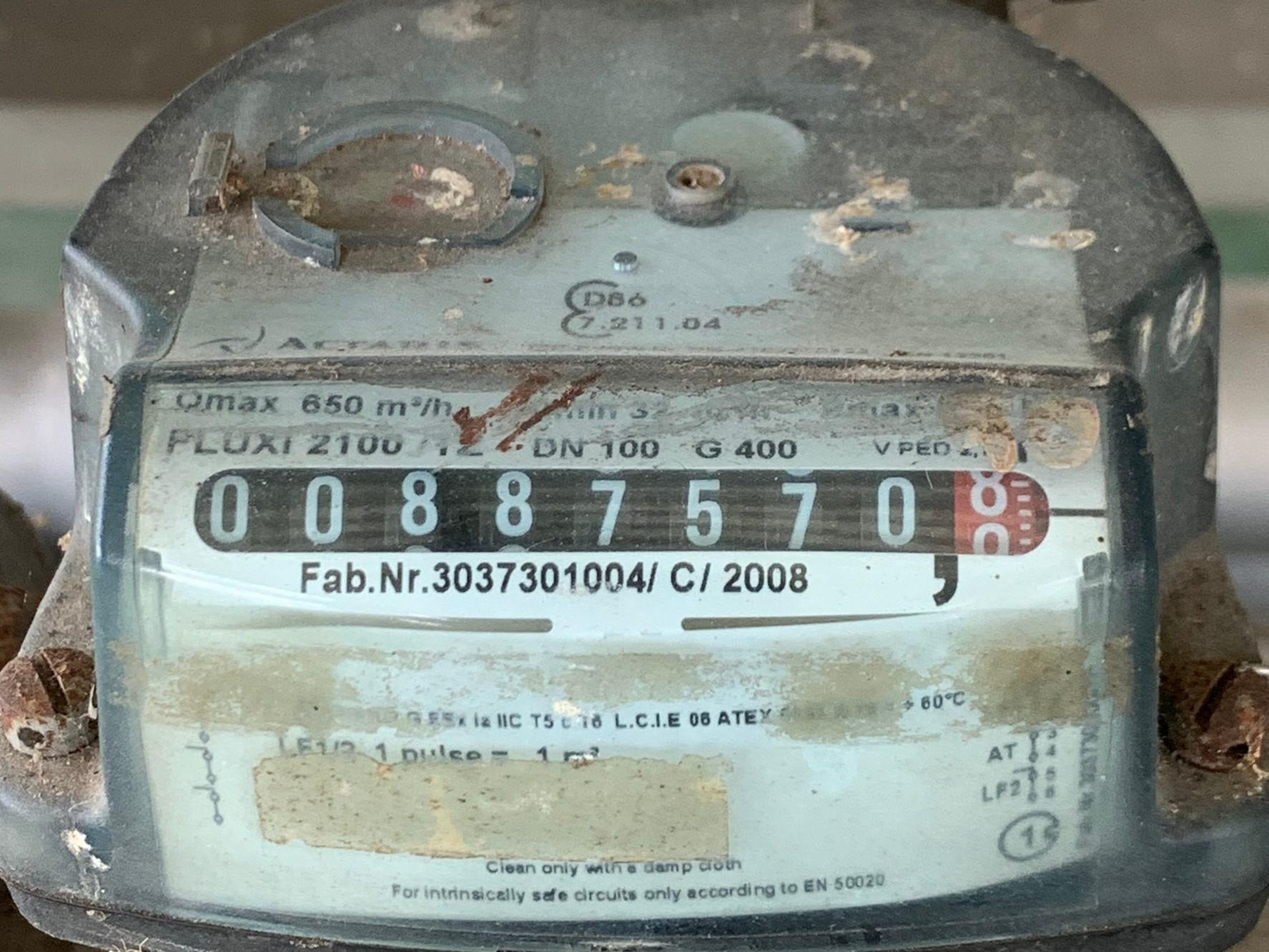analog_dial: (182, 458, 1109, 567)
